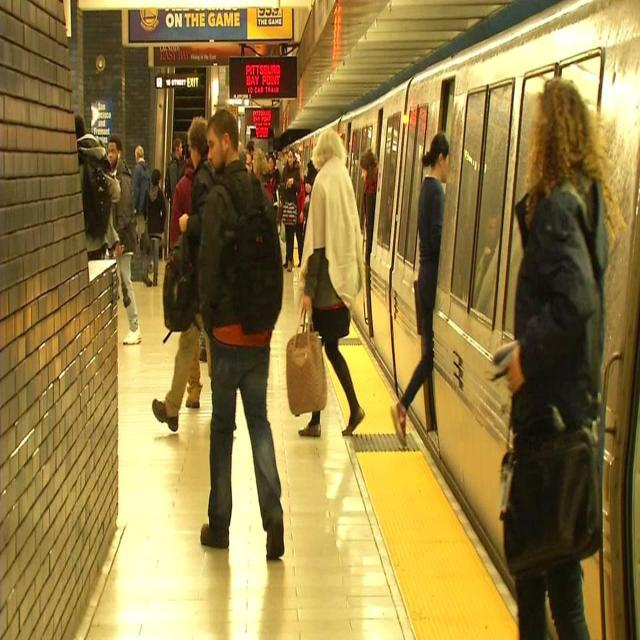body: (488, 76, 614, 640), (191, 105, 291, 563), (296, 125, 368, 442), (150, 113, 216, 434), (388, 130, 450, 450), (168, 161, 212, 410), (106, 134, 142, 347), (74, 114, 122, 262), (460, 200, 504, 310), (143, 167, 167, 288), (278, 147, 300, 273), (358, 147, 378, 269), (131, 144, 151, 221), (294, 152, 306, 269), (164, 137, 184, 206), (266, 153, 282, 214), (304, 138, 320, 196), (251, 147, 269, 180), (243, 148, 253, 174), (302, 174, 310, 201), (246, 140, 256, 158), (236, 138, 245, 151), (272, 148, 278, 160)
